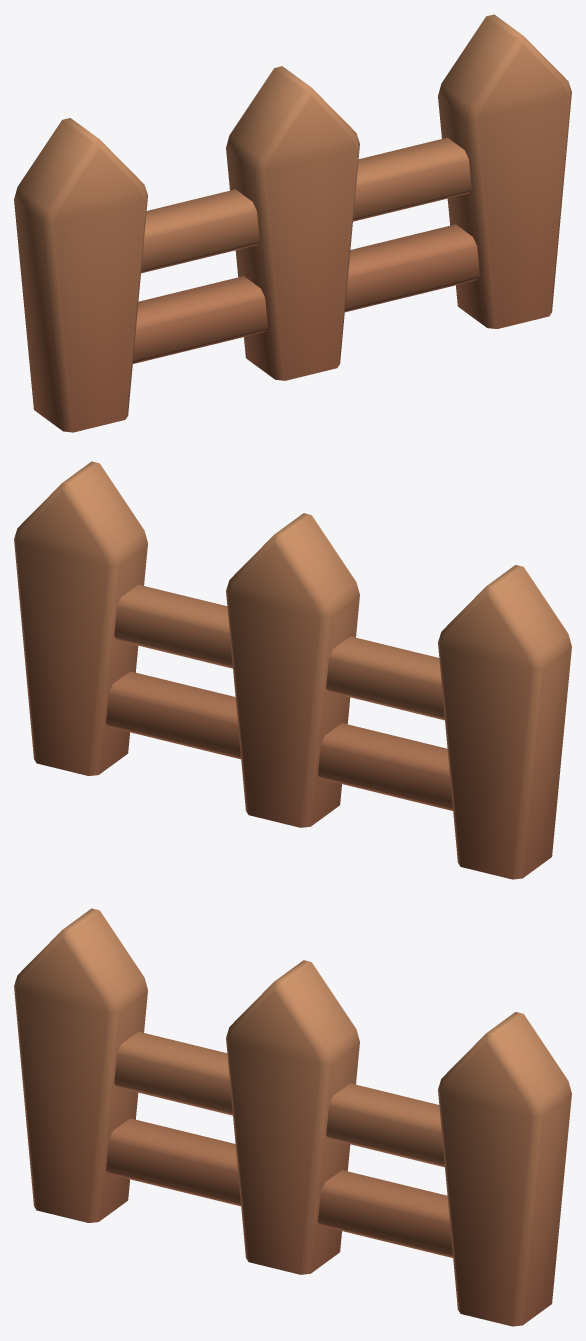
The model's file is Fence Straight Long.glb.
3 renders of one model, top to bottom at view 1: azimuth 30°, elevation 25°; view 2: azimuth 150°, elevation 25°; view 3: azimuth 330°, elevation 25°, orthographic.
Visible parts, largest first — view 1: fence_straight_long; view 2: fence_straight_long; view 3: fence_straight_long.
Boxes of the visible parts, <box> form: fence_straight_long: <box>14,14,571,432</box>; fence_straight_long: <box>14,461,571,879</box>; fence_straight_long: <box>14,908,571,1326</box>.
Size of the model in its own units: 2.49 by 1.28 by 0.3.
Materials: 1 (1 with a texture image).
